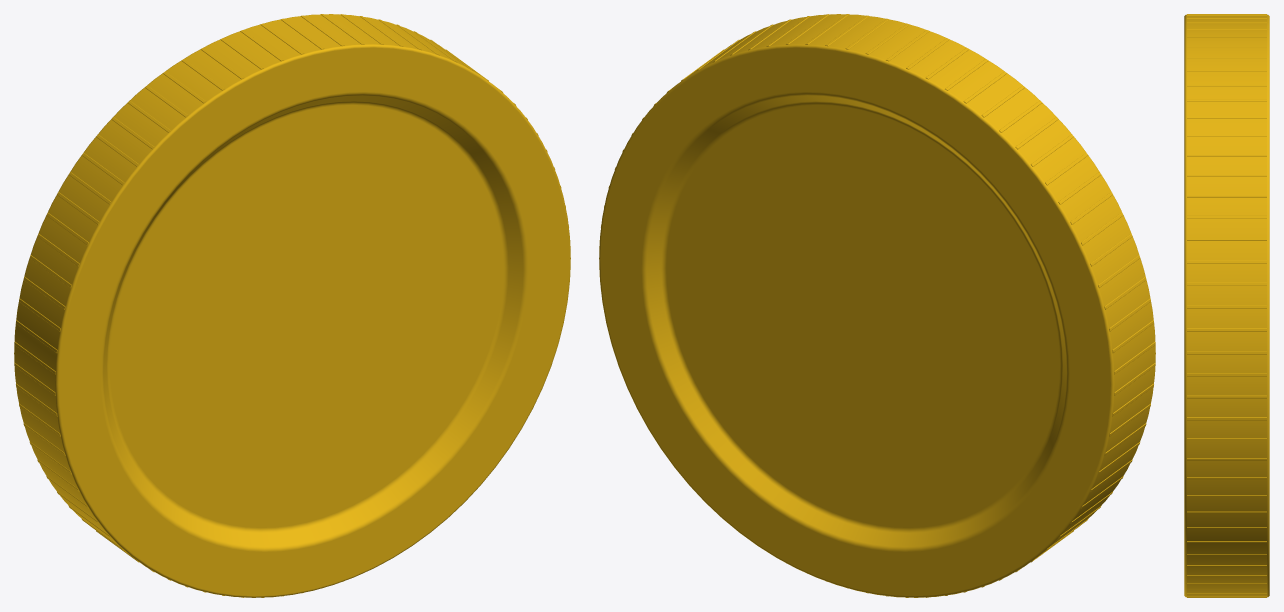
Rendered from монета.fbx.
The picture shows the model from 3 angles, left to right: view 1: azimuth 30°, elevation 25°; view 2: azimuth 150°, elevation 25°; view 3: azimuth 270°, elevation 25°; orthographic projection.
Parts seen in each view (by area): view 1: монета; view 2: монета; view 3: монета.
Part boxes in pixels (bbox=[...]): монета: bbox=[14, 14, 570, 597]; монета: bbox=[599, 14, 1155, 597]; монета: bbox=[1184, 14, 1269, 597].
Bounding box in the file's own units: 665 × 665 × 97.4.
